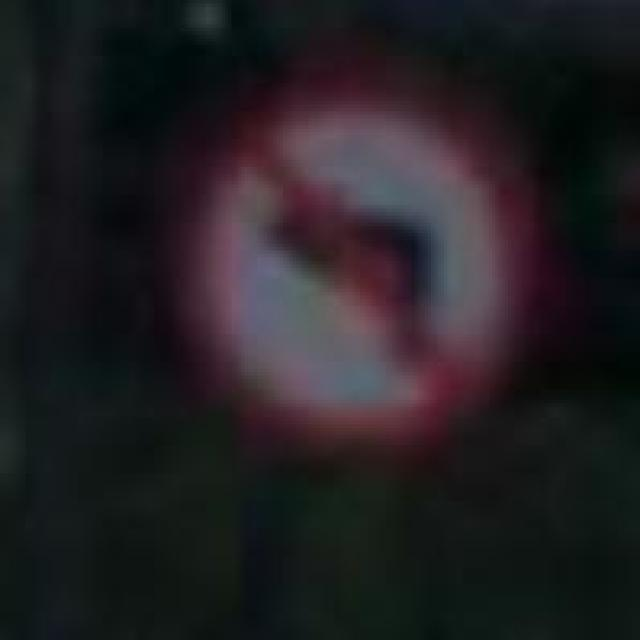traffic sign: (196, 101, 508, 449)
